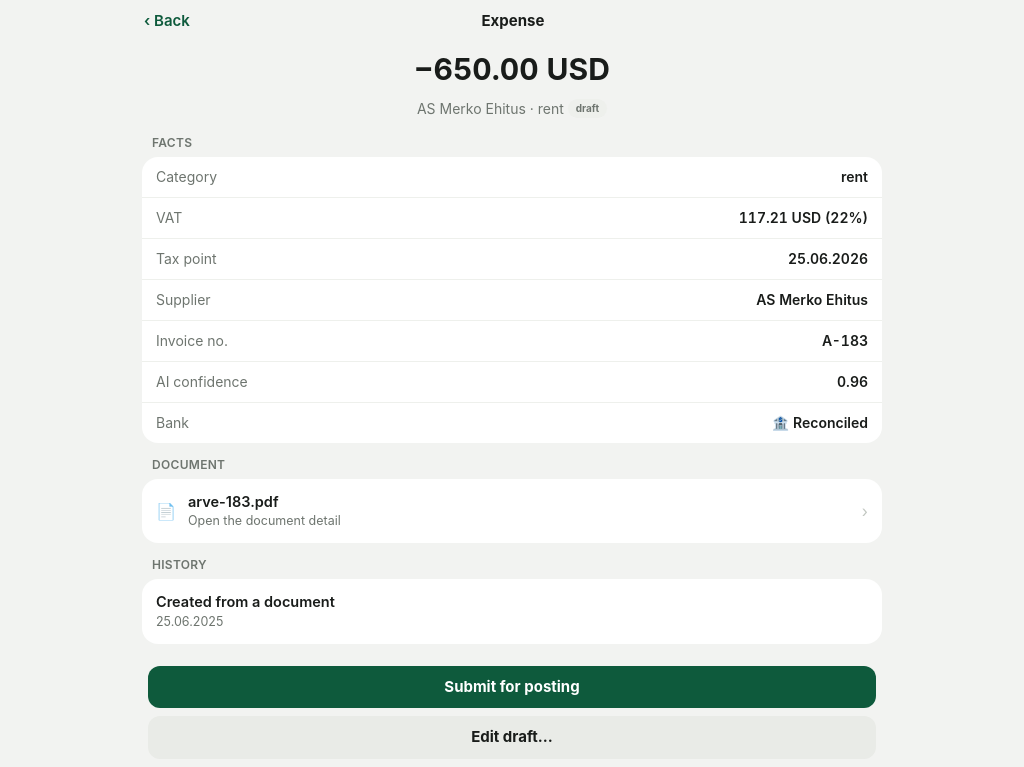
Scenario: ExpenseScreen › states a non-EUR expense in its own currency on hero, VAT fact and posting toast (no conversion)
The width and height of the screenshot is (1024, 767).
Check: the text "−650.00 USD" is shown, box [414,50,610,86]
Check: the text "117.21 USD (22%)" is shown, box [739,208,868,228]
Click the button "Submit for posting" at (512, 687), box [148,666,876,708]
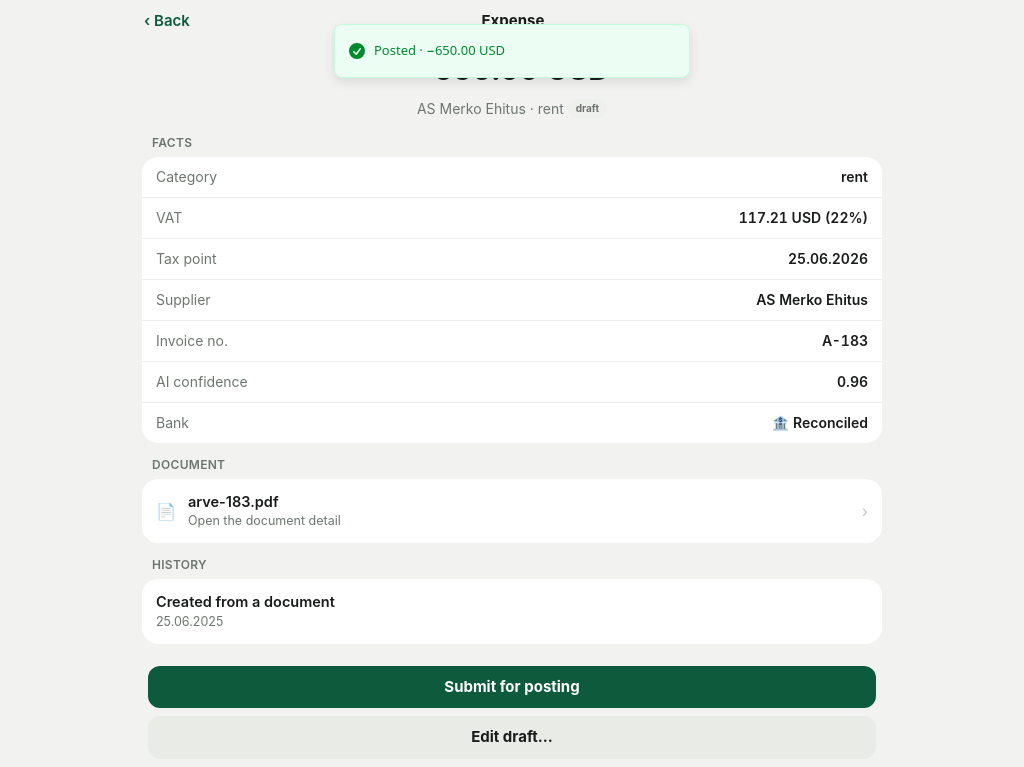
Check: the text "Posted · −650.00 USD" is shown, box [374,41,505,60]
